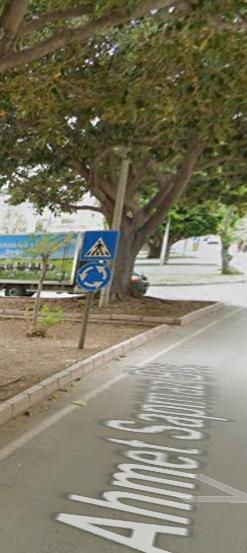crossroads: (76, 260, 111, 290)
